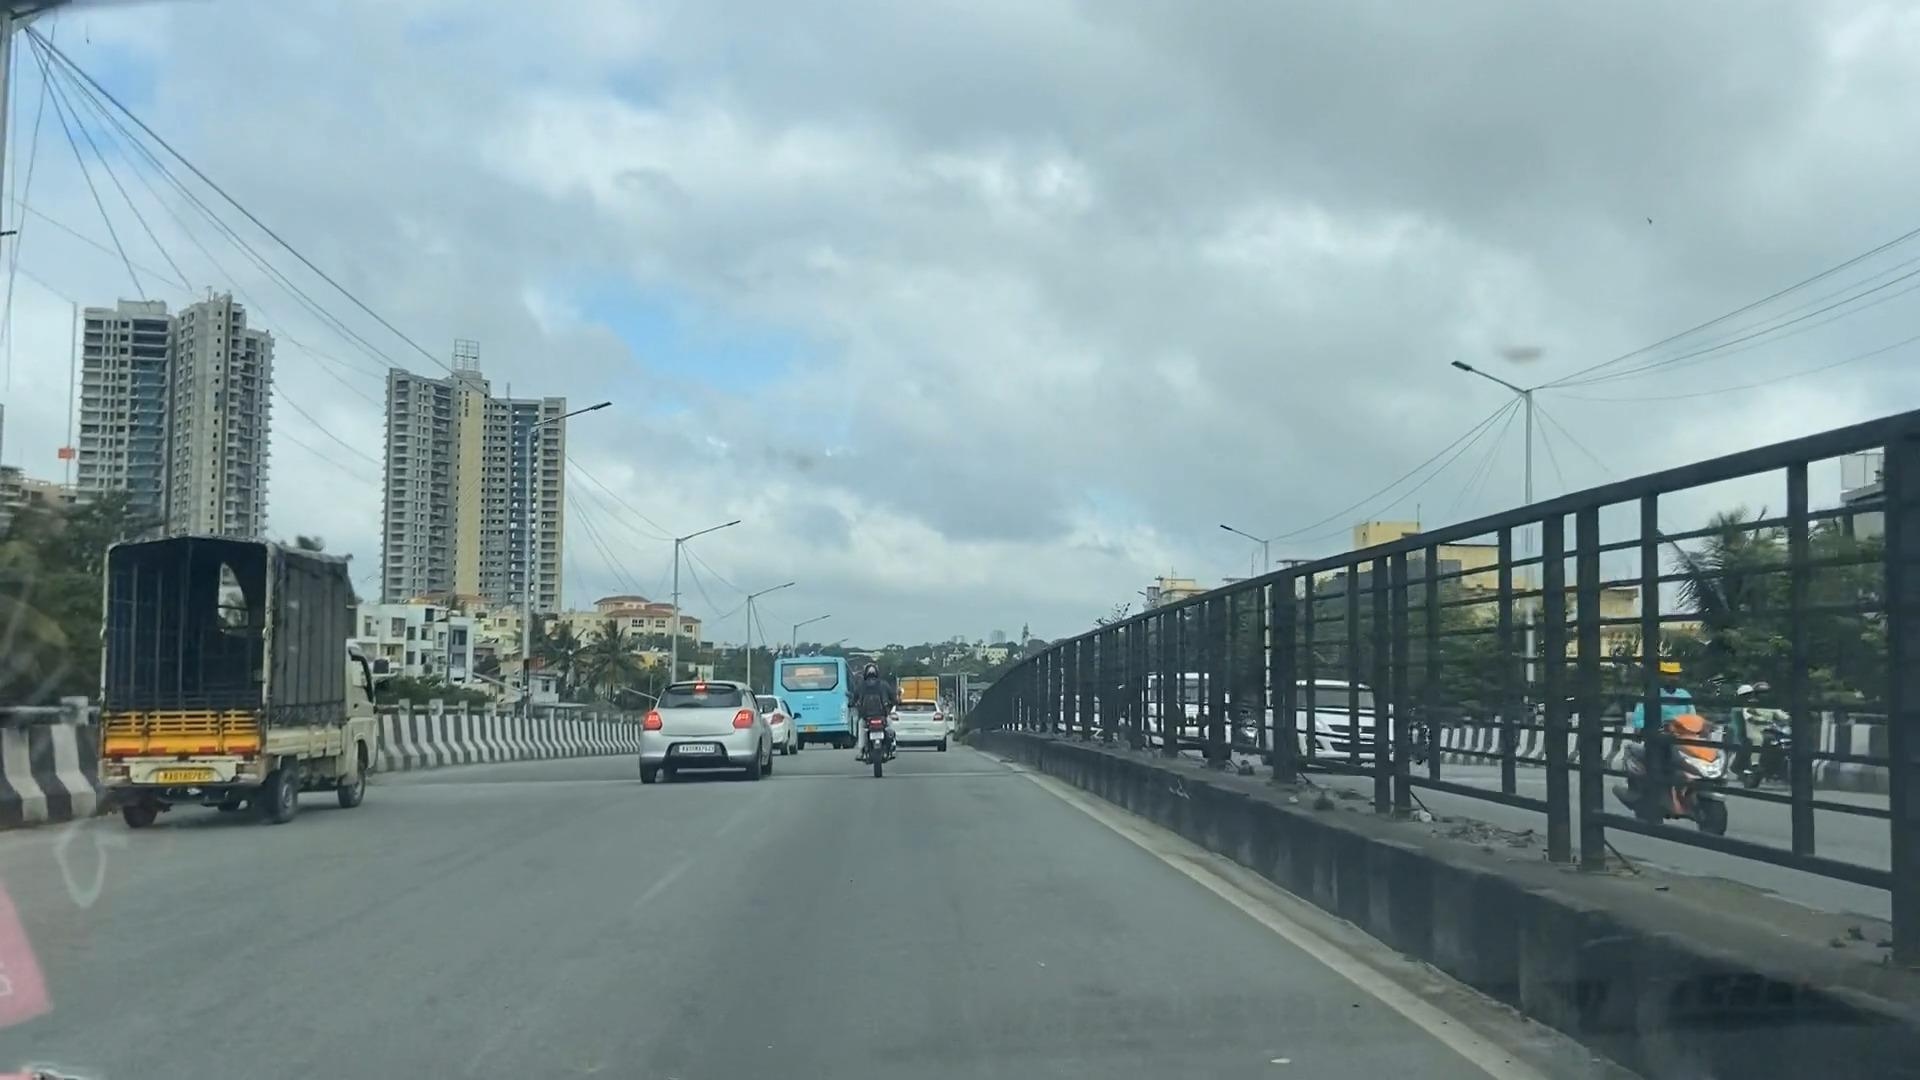HMV: (98, 522, 386, 858), (750, 609, 856, 760)
LMV: (626, 629, 785, 799), (810, 625, 931, 807), (865, 661, 961, 754)
